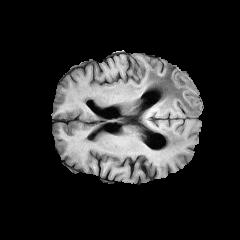glioma: (124, 66, 200, 149)
